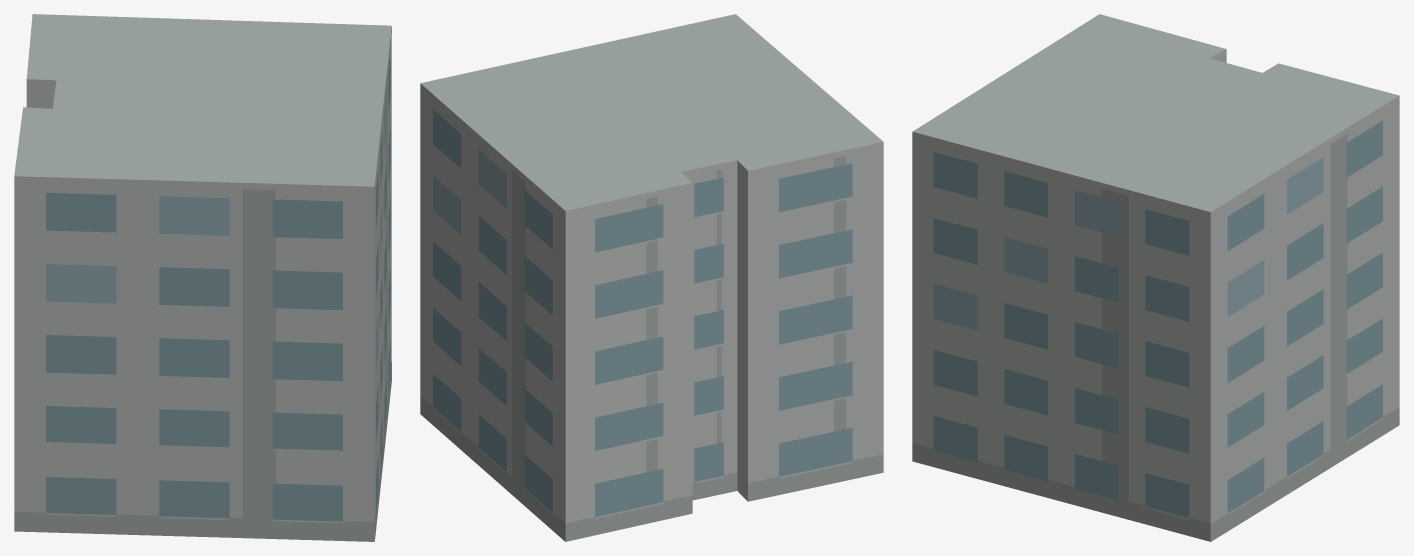
File: survey-upis-32780087.glb
3 views of the same model, side by side, from view 1: azimuth 30°, elevation 25°; view 2: azimuth 150°, elevation 25°; view 3: azimuth 270°, elevation 25° (orthographic). The views are drawn at different scales.
Visible parts, largest first — view 1: survey-upis-32780087.tmp; view 2: survey-upis-32780087.tmp; view 3: survey-upis-32780087.tmp.
Part boxes in pixels (<box>): survey-upis-32780087.tmp: <box>14,14,391,541</box>; survey-upis-32780087.tmp: <box>420,14,883,541</box>; survey-upis-32780087.tmp: <box>912,14,1399,541</box>.
Bounding box in the file's own units: 17.15 × 13.3 × 17.82.
